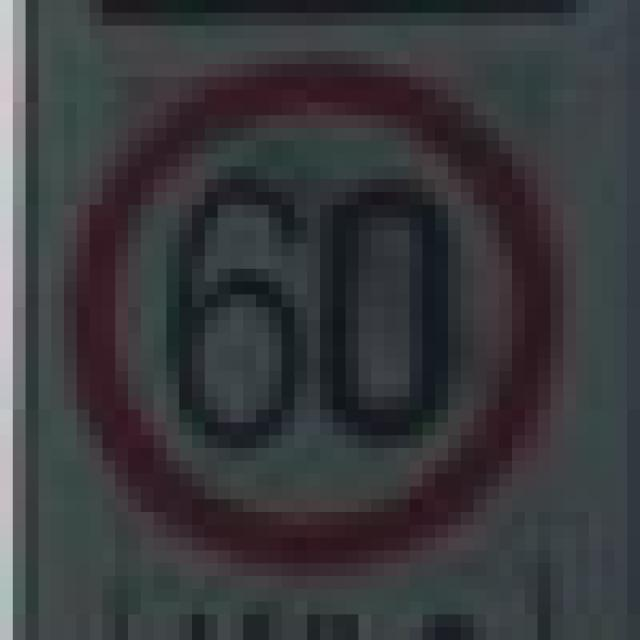SPEED_LIMIT_60: (64, 64, 550, 538)
